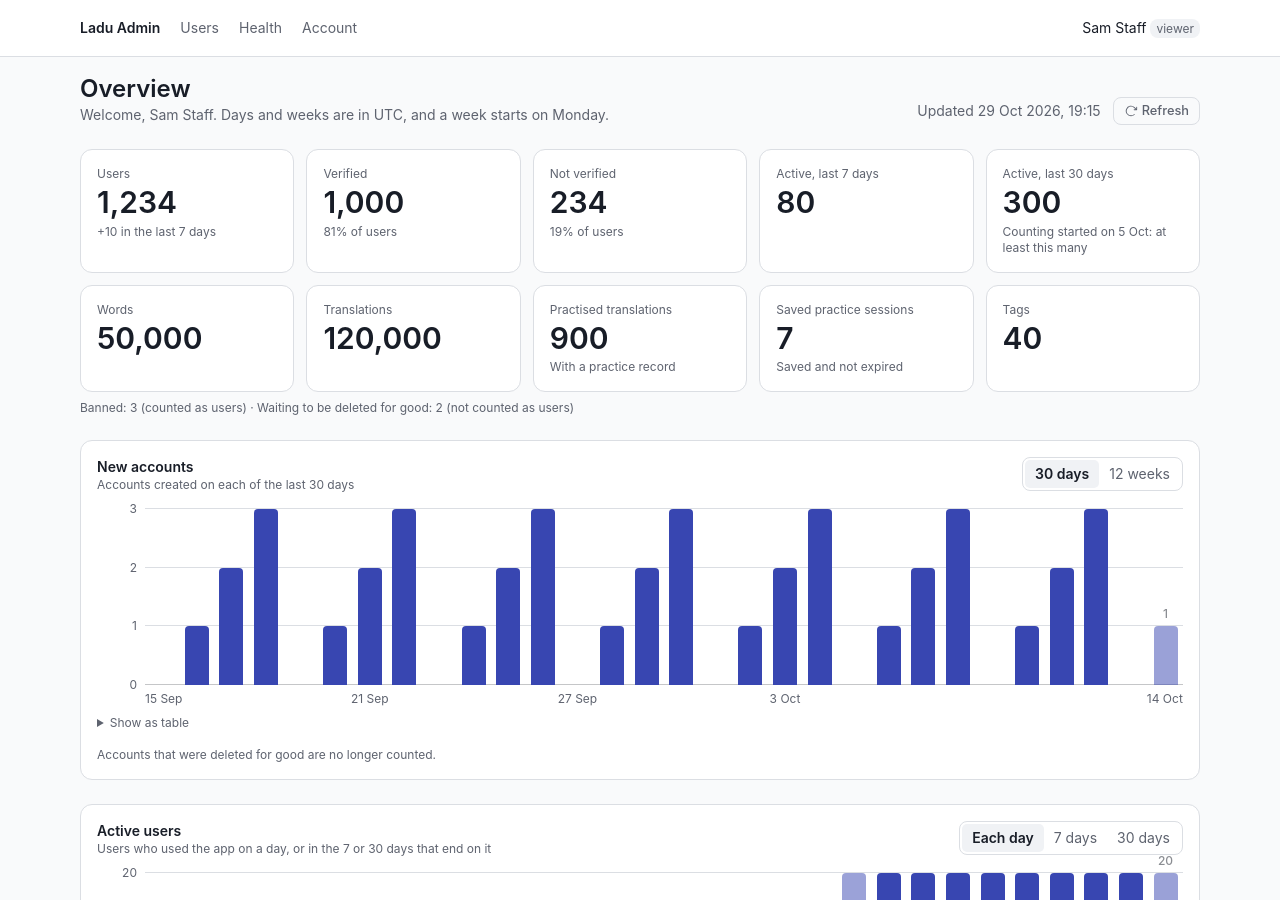
Scenario: Health nav link › is shown to a role with health.read, and opens the page
Click the link "Health" at (260, 28), box left=239, top=18, right=282, bottom=38
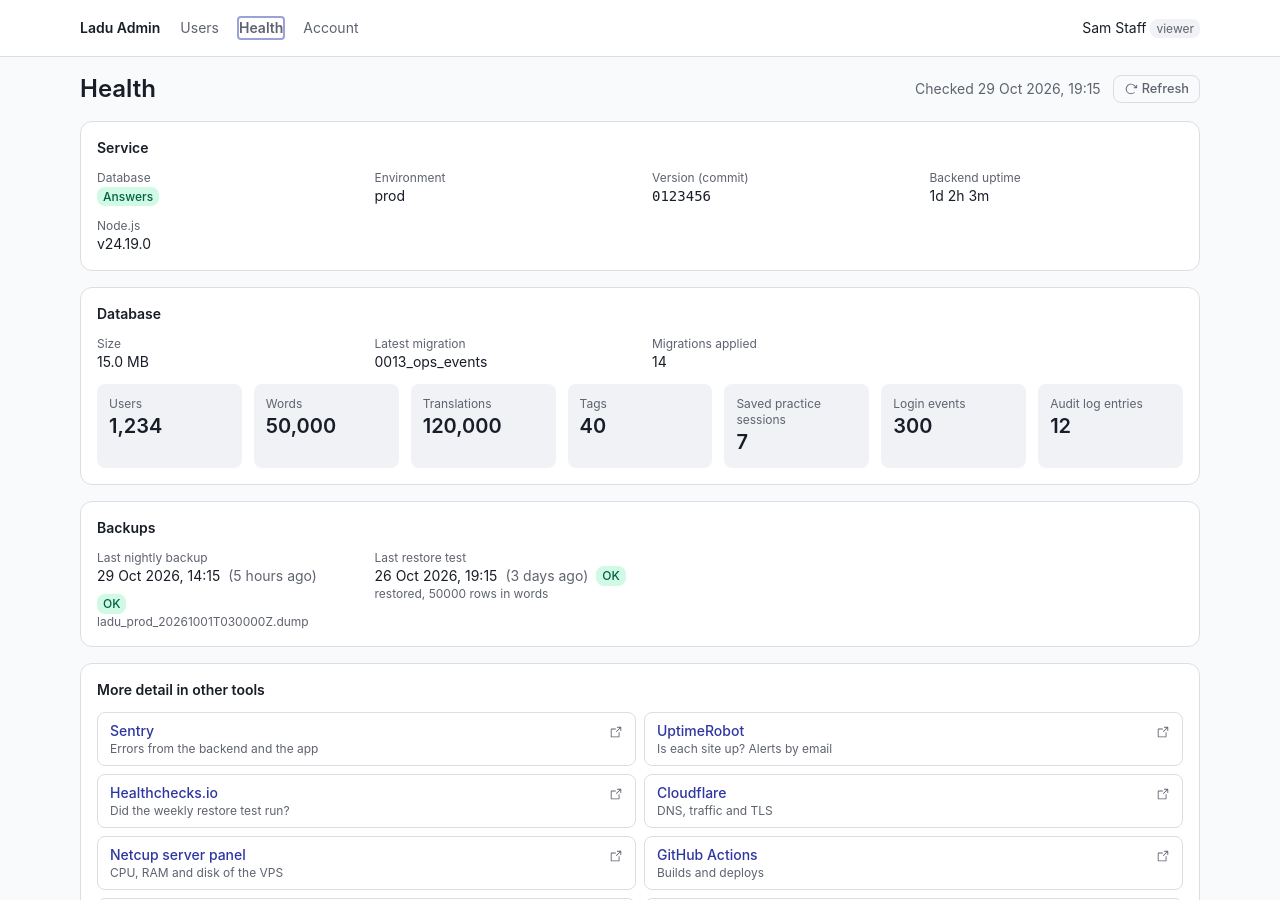
expect the heading "Service" is shown: met, box left=97, top=139, right=148, bottom=156
